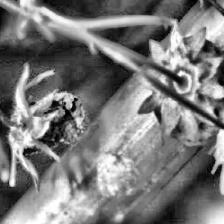Gray Mold: (0, 64, 91, 193)
